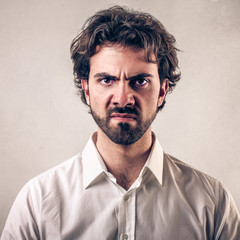young: (65, 12, 184, 147)
